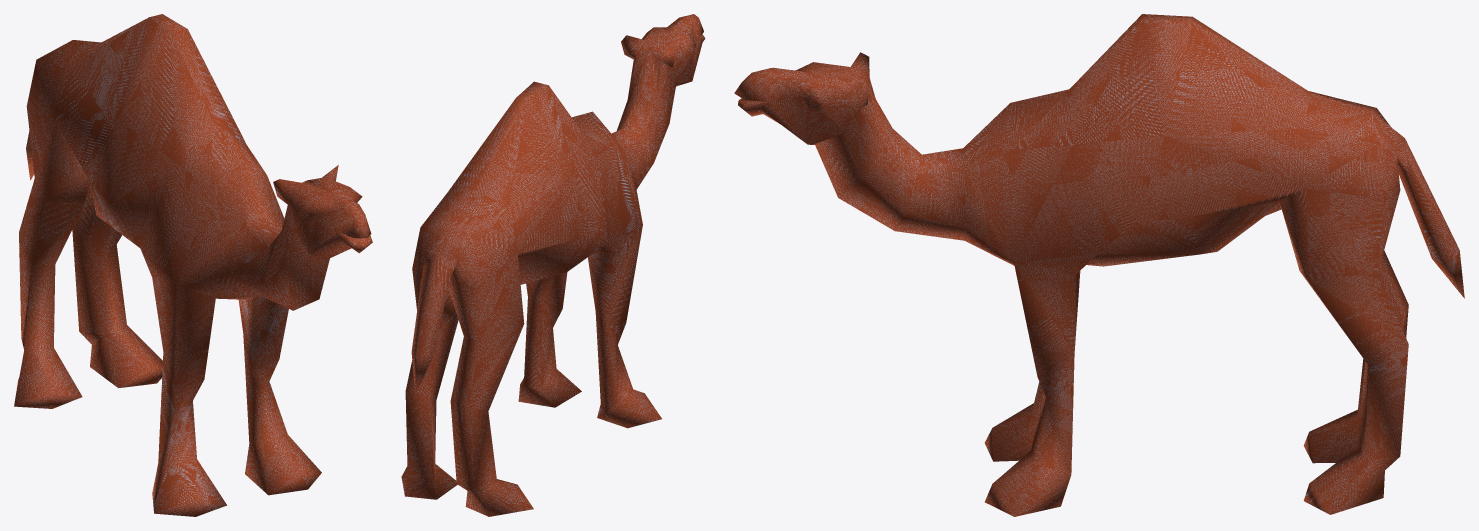
File: dromedario.fbx
3 views of the same model, side by side, from view 1: azimuth 30°, elevation 25°; view 2: azimuth 150°, elevation 25°; view 3: azimuth 270°, elevation 25° (orthographic). The views are drawn at different scales.
Visible parts, largest first — view 1: Model; view 2: Model; view 3: Model.
Boxes of the visible parts, x1=… form: Model: x1=14, y1=14, x2=372, y2=516; Model: x1=401, y1=14, x2=705, y2=516; Model: x1=734, y1=14, x2=1464, y2=516.
Bounding box in the file's own units: 0.00243 × 0.00581 × 0.00845.
